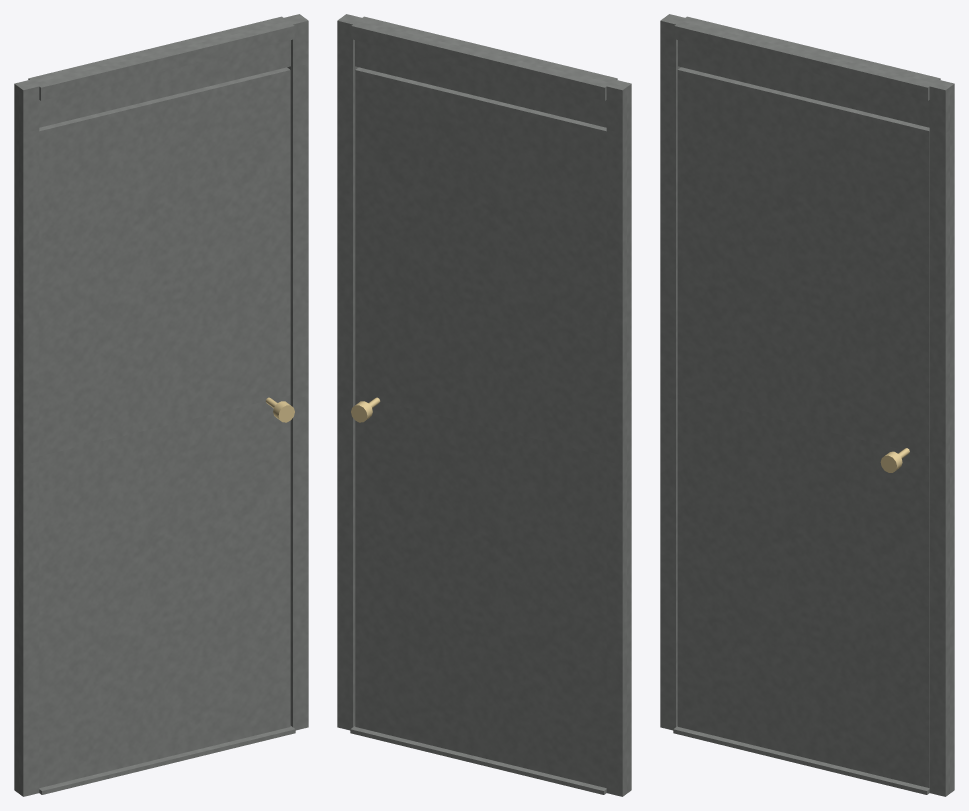
Rendered from X14_PART_Door_090.glb.
3 renders of one model, left to right at view 1: azimuth 30°, elevation 25°; view 2: azimuth 150°, elevation 25°; view 3: azimuth 330°, elevation 25°, orthographic.
Visible parts, largest first — view 1: X14_PART_Door_090_Leaf_LOD0, X14_PART_Door_090_LOD0; view 2: X14_PART_Door_090_Leaf_LOD0, X14_PART_Door_090_LOD0; view 3: X14_PART_Door_090_Leaf_LOD0, X14_PART_Door_090_LOD0.
Part boxes in pixels (x1=…): X14_PART_Door_090_Leaf_LOD0: x1=39, y1=67, x2=294, y2=787; X14_PART_Door_090_LOD0: x1=14, y1=14, x2=308, y2=796; X14_PART_Door_090_Leaf_LOD0: x1=351, y1=67, x2=606, y2=787; X14_PART_Door_090_LOD0: x1=337, y1=14, x2=631, y2=796; X14_PART_Door_090_Leaf_LOD0: x1=677, y1=67, x2=929, y2=787; X14_PART_Door_090_LOD0: x1=660, y1=14, x2=954, y2=796.
Size of what is drawn, in the model's own units: 0.9 by 2.13 by 0.24.
Materials: 2 (1 with a texture image).
